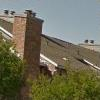Chimney: (7, 7, 45, 82)
